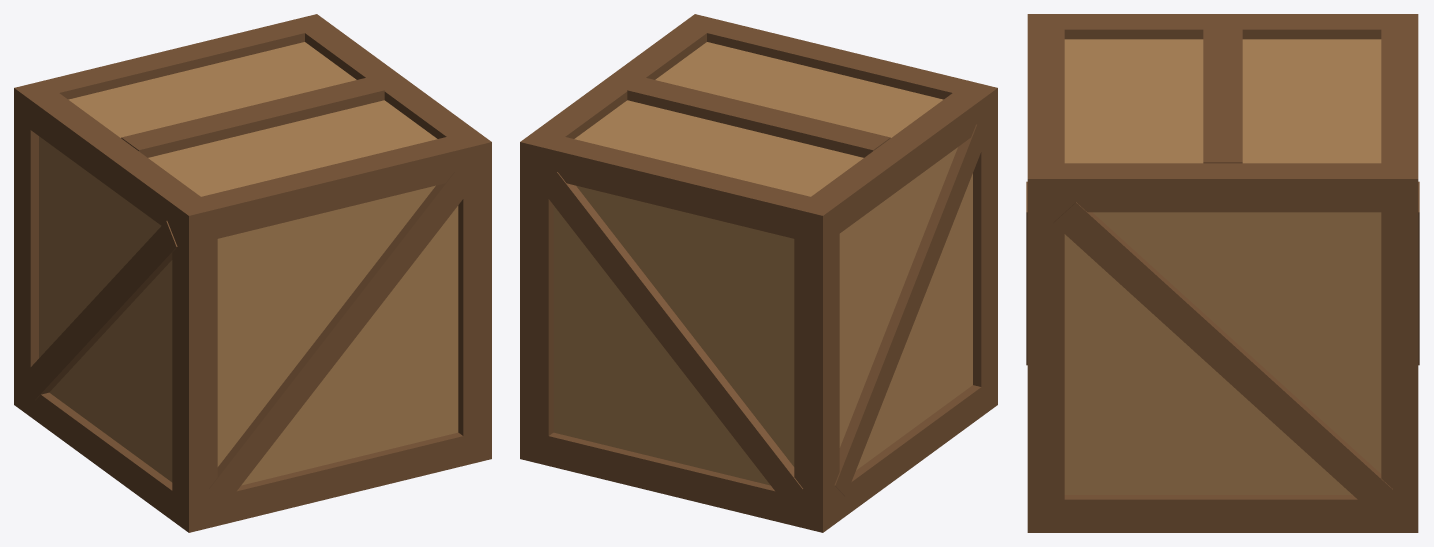
The model's file is crate_wood.glb.
3 views of the same model, side by side, from view 1: azimuth 30°, elevation 25°; view 2: azimuth 150°, elevation 25°; view 3: azimuth 270°, elevation 25° (orthographic). The views are drawn at different scales.
Parts seen in each view (by area): view 1: crate_wood; view 2: crate_wood; view 3: crate_wood.
Boxes of the visible parts, bbox=[...] form: crate_wood: bbox=[14, 14, 491, 532]; crate_wood: bbox=[520, 14, 997, 532]; crate_wood: bbox=[1026, 14, 1419, 532].
Size of the model in its own units: 0.906 by 0.903 by 0.906.
